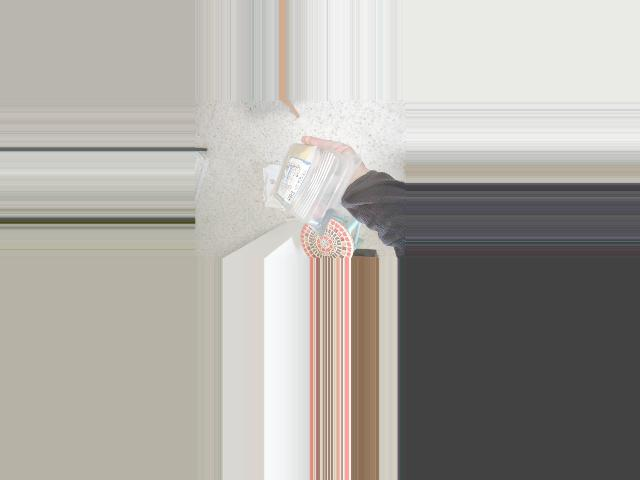cheese: (255, 145, 361, 241)
